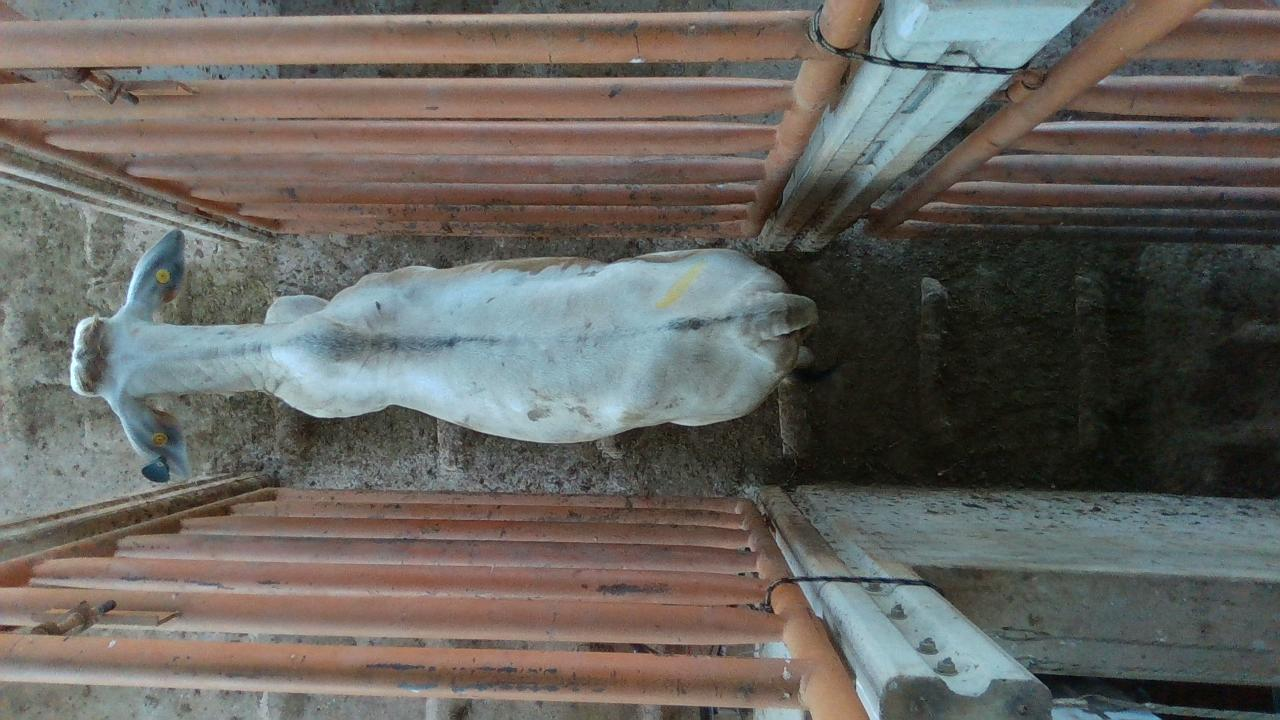cattle: (68, 227, 826, 482)
